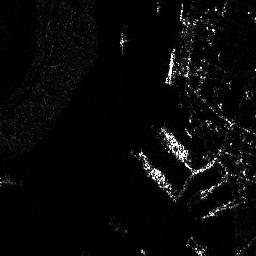ship: (135, 150, 173, 191), (160, 127, 191, 163), (164, 46, 177, 85)
